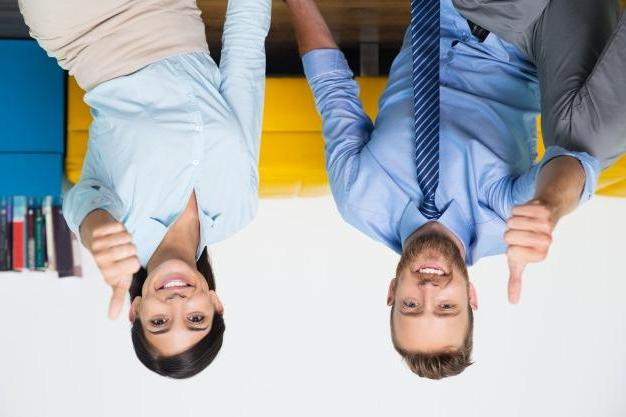thumbsdown: (503, 204, 553, 304), (90, 222, 140, 320)
